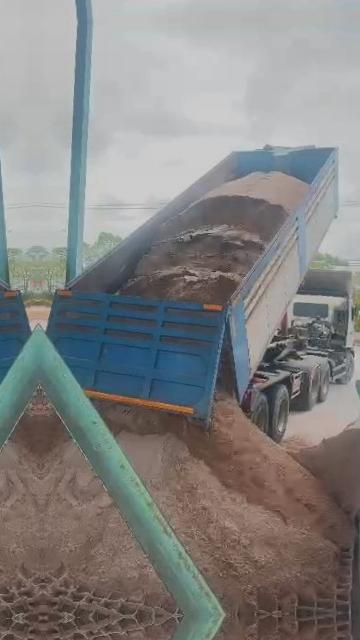sand: (99, 393, 350, 612), (121, 172, 307, 303), (41, 440, 165, 601), (288, 427, 360, 518), (39, 386, 69, 464)
